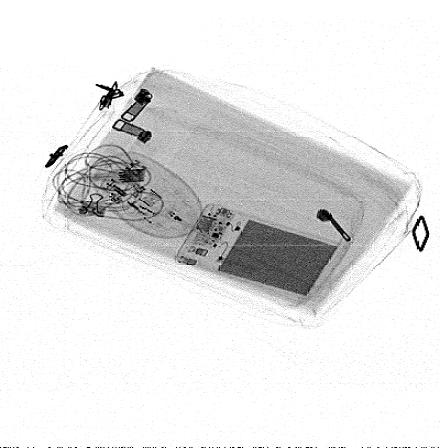Powerbank: (173, 202, 350, 303)
